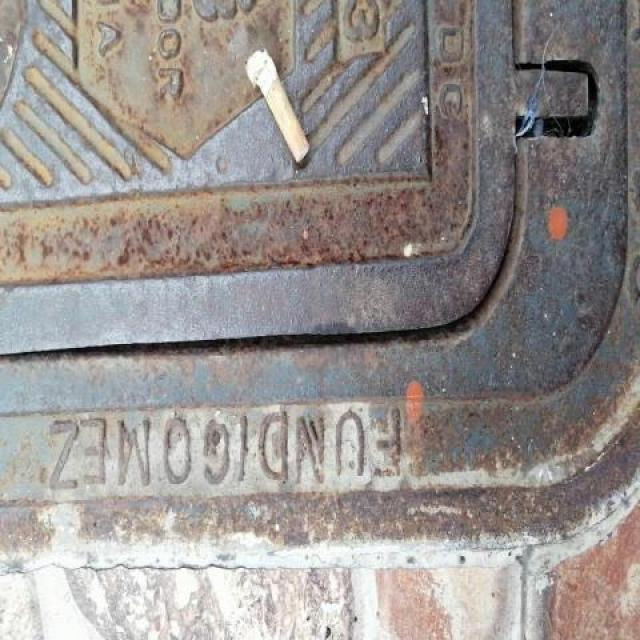non-organic waste: (238, 45, 314, 170)
